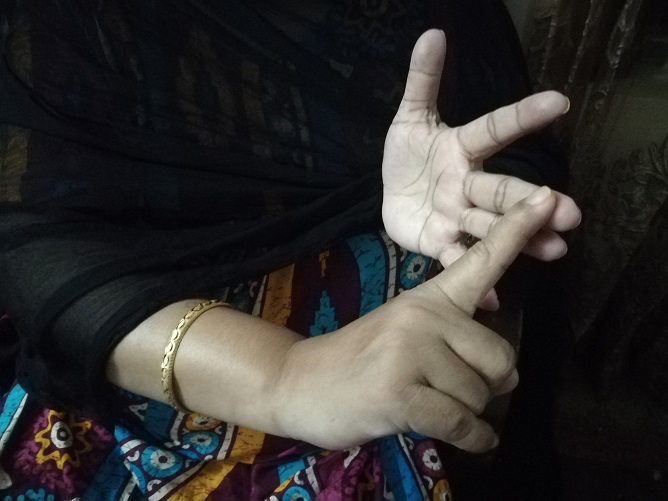u: (391, 27, 575, 445)
